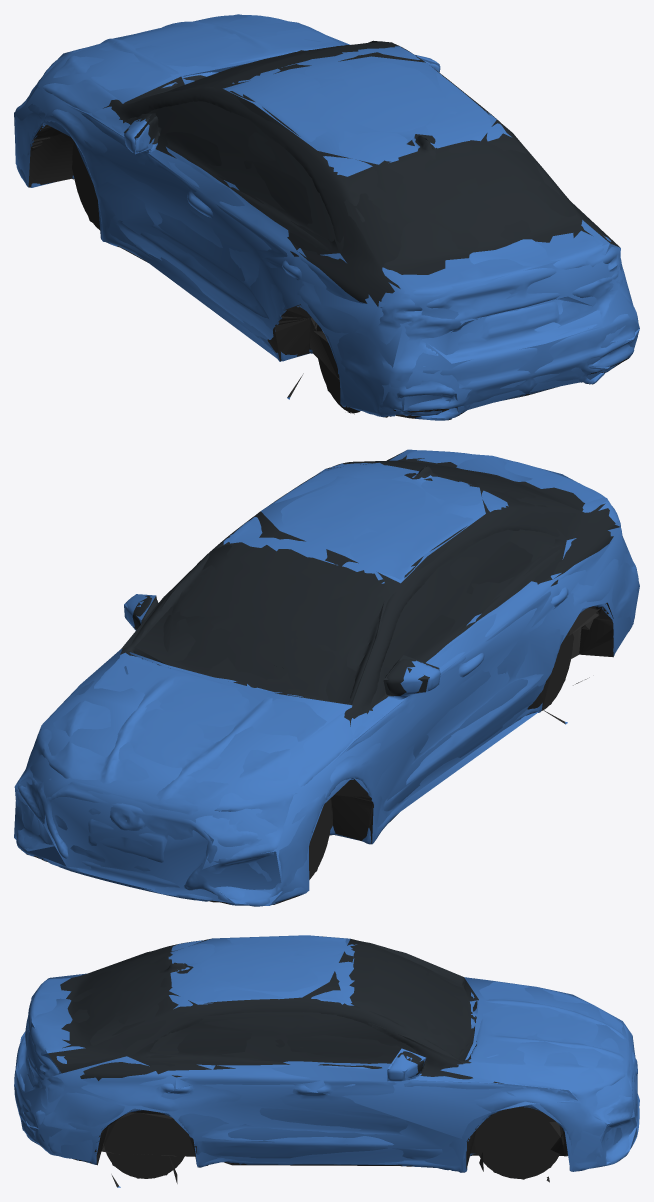
Rendered from audi-a3.glb.
The picture shows the model from 3 angles, top to bottom: view 1: azimuth 30°, elevation 25°; view 2: azimuth 150°, elevation 25°; view 3: azimuth 270°, elevation 25°; orthographic projection. The views are drawn at different scales.
Parts seen in each view (by area): view 1: body, far; view 2: body, far; view 3: body, far.
Boxes of the visible parts, box(x1,y1,x2,y2) form: body: box(15, 15, 638, 420); far: box(14, 14, 639, 414); body: box(15, 450, 638, 906); far: box(14, 449, 639, 905); body: box(14, 936, 639, 1187); far: box(14, 935, 639, 1183).
Size of the model in its own units: 1.98 by 1.44 by 4.54.
